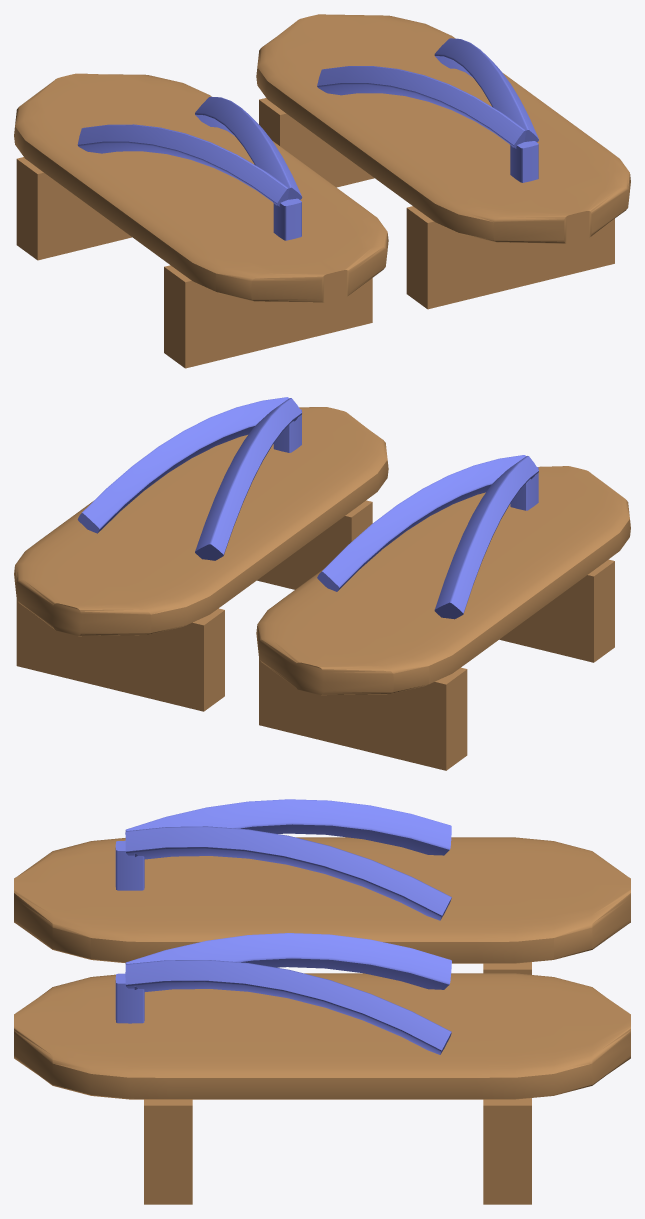
Rendered from geta.glb.
The picture shows the model from 3 angles, top to bottom: view 1: azimuth 30°, elevation 25°; view 2: azimuth 150°, elevation 25°; view 3: azimuth 270°, elevation 25°; orthographic projection. The views are drawn at different scales.
Parts seen in each view (by area): view 1: geta; view 2: geta; view 3: geta.
Boxes of the visible parts, left/top/right/bottom form: geta: left=14, top=14, right=630, bottom=368; geta: left=14, top=397, right=630, bottom=770; geta: left=14, top=799, right=630, bottom=1204.
Size of the model in its own units: 0.2345 by 0.0914 by 0.2537.
